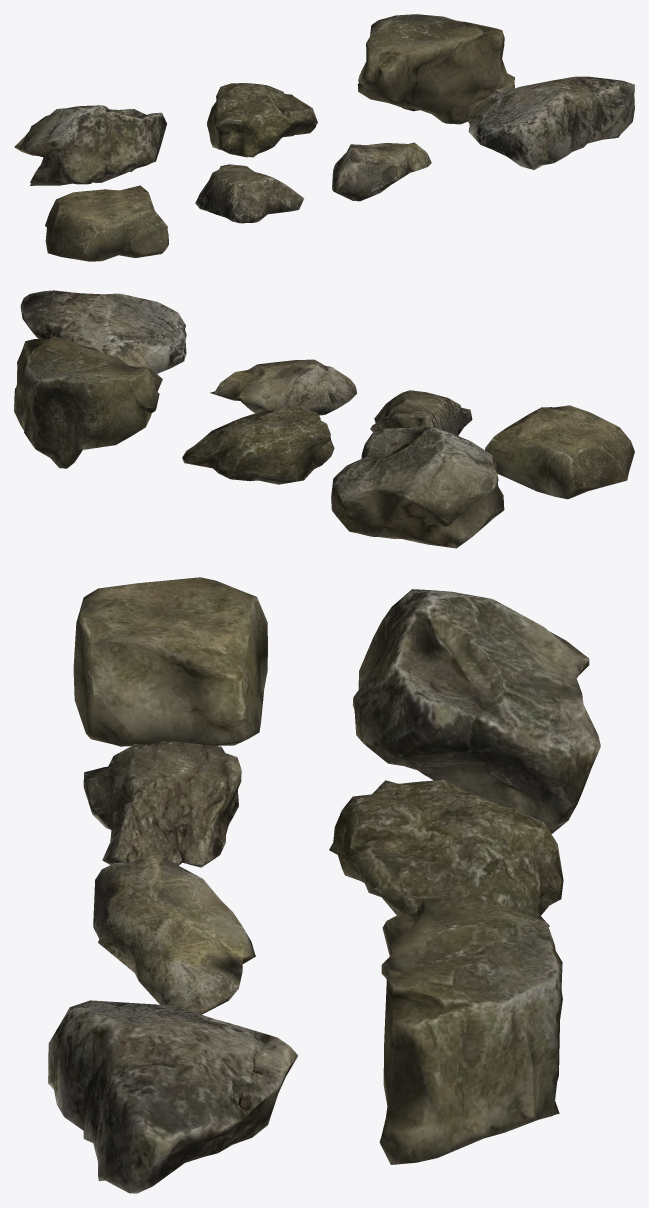
File: rock_moss_set_02.glb
3 views of the same model, one above another, from view 1: azimuth 30°, elevation 25°; view 2: azimuth 150°, elevation 25°; view 3: azimuth 270°, elevation 25° (orthographic). The views are drawn at different scales.
Parts seen in each view (by area): view 1: rock_moss_set_02_rock08; view 2: rock_moss_set_02_rock08; view 3: rock_moss_set_02_rock08.
Part boxes in pixels (<box>): rock_moss_set_02_rock08: <box>14,14,634,261</box>; rock_moss_set_02_rock08: <box>14,290,634,548</box>; rock_moss_set_02_rock08: <box>48,577,600,1193</box>.
Bounding box in the file's own units: 8.27 × 1.35 × 3.4.
1 material, 1 textured.
